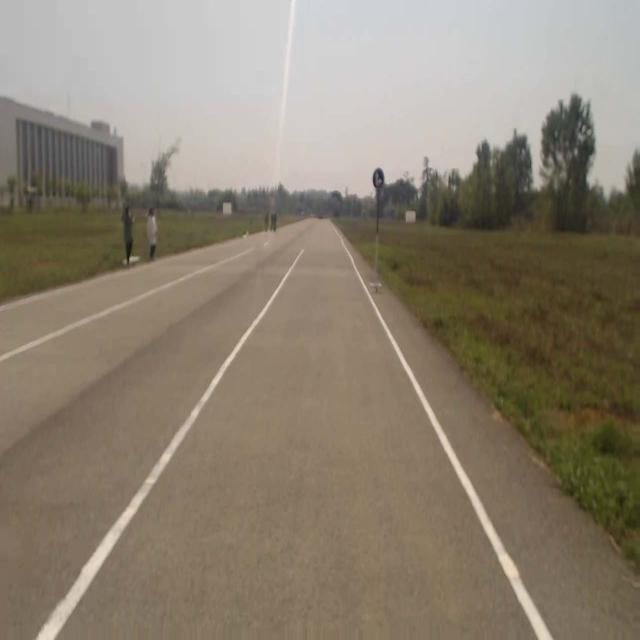ilerisag: (372, 166, 386, 188)
